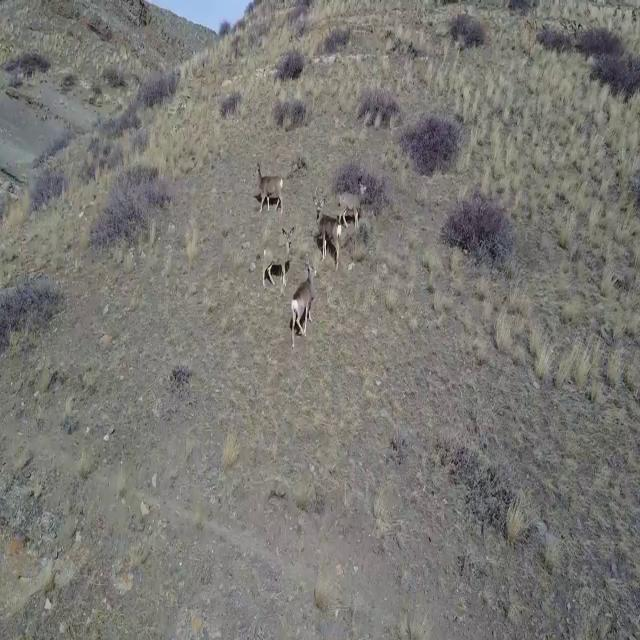Deer: (290, 262, 318, 348), (259, 226, 294, 289), (313, 190, 342, 260), (255, 160, 288, 214), (339, 173, 367, 230)
